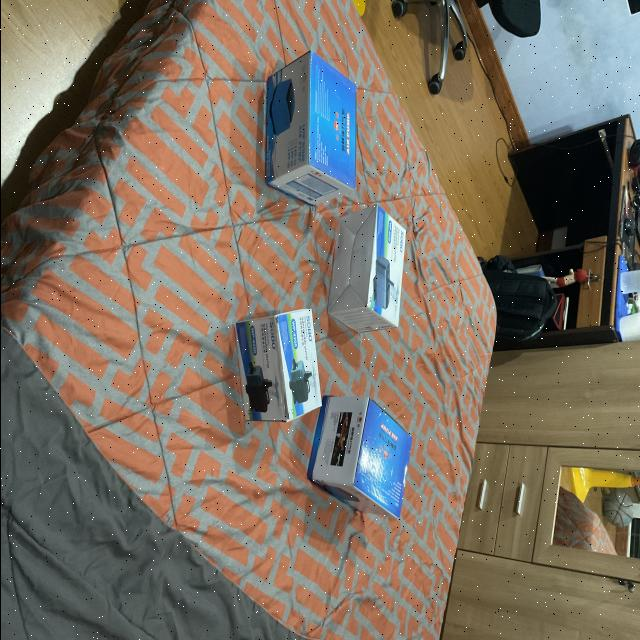SOBO_WP_4200: (225, 297, 337, 437), (334, 194, 424, 332)
YAMANO_LPP_20: (253, 38, 379, 206), (306, 386, 416, 528)
